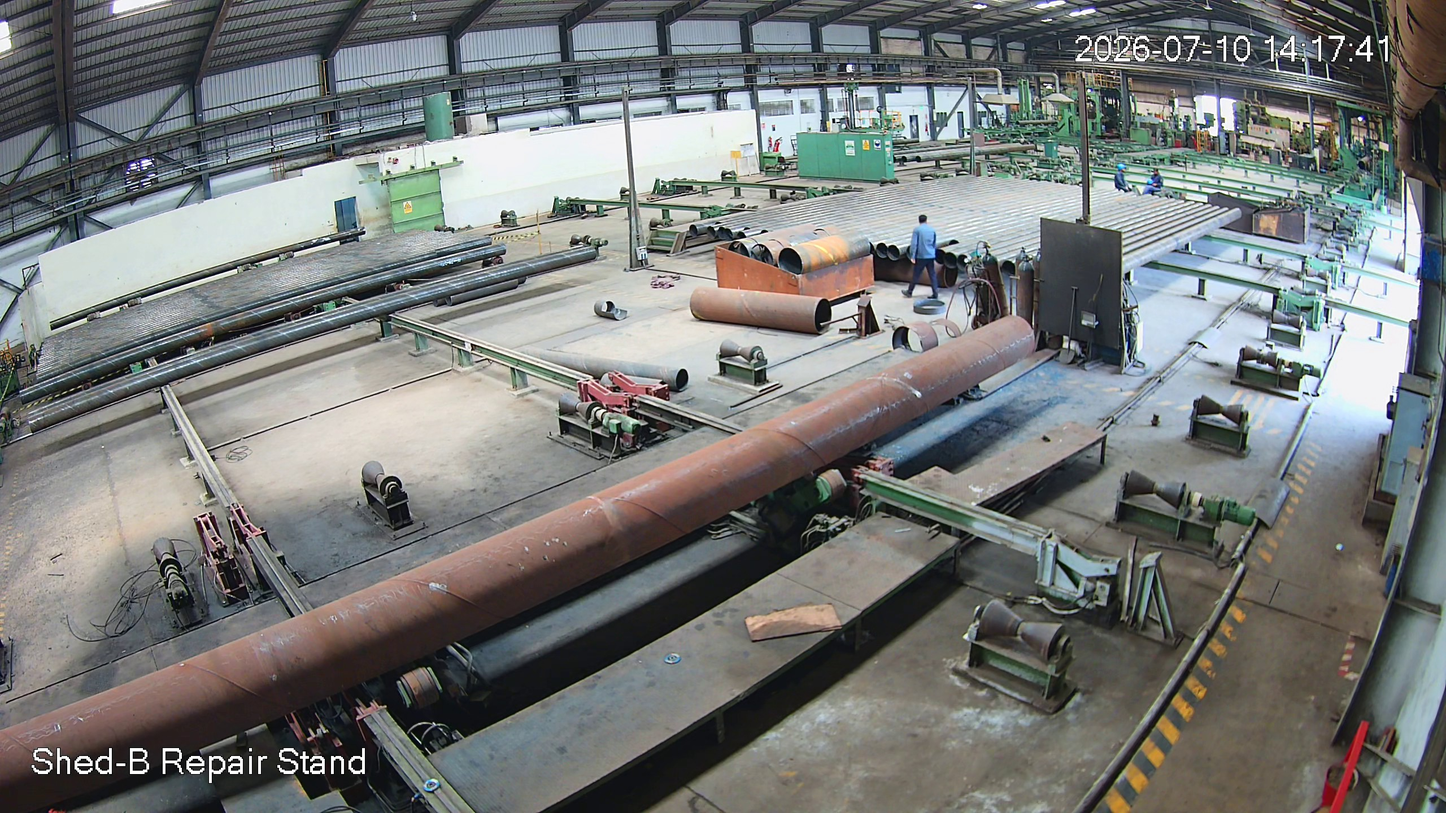Person: (909, 214, 942, 300)
